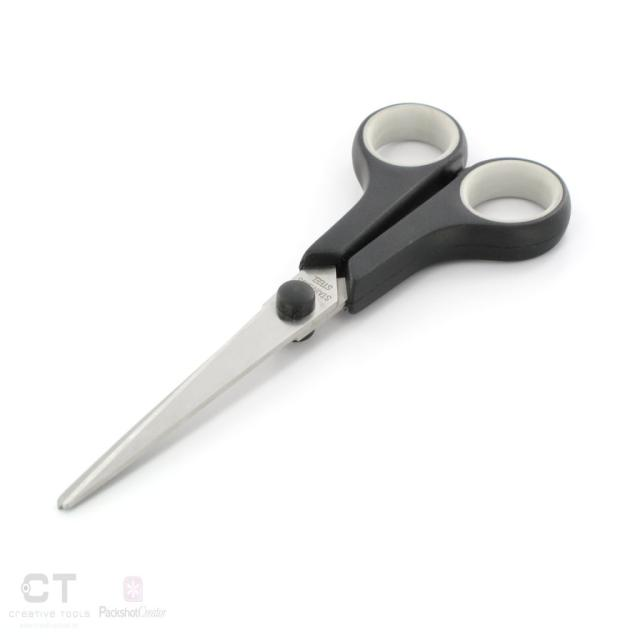scissors: (56, 100, 572, 511)
